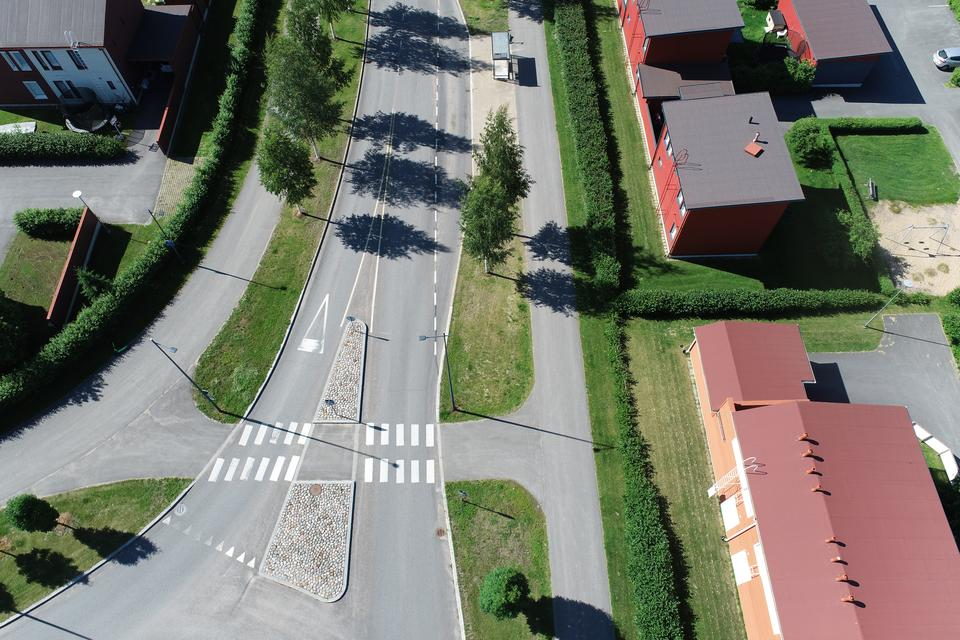intersection: (145, 378, 624, 508)
